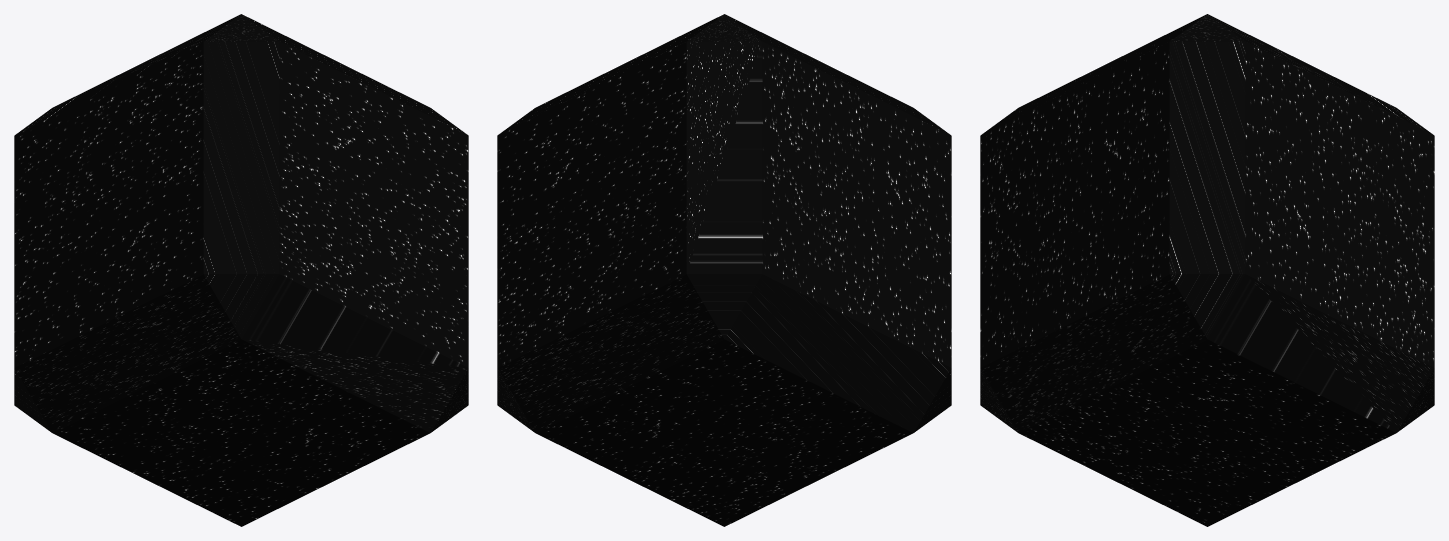
The model's file is supplier_lower_interior.obj.
The picture shows the model from 3 angles, left to right: view 1: azimuth 30°, elevation 25°; view 2: azimuth 150°, elevation 25°; view 3: azimuth 270°, elevation 25°; orthographic projection.
Visible parts, largest first — view 1: LOWER_INTERIOR_Cube.001; view 2: LOWER_INTERIOR_Cube.001; view 3: LOWER_INTERIOR_Cube.001.
Part boxes in pixels (x1,y1,x2,y2): LOWER_INTERIOR_Cube.001: (14, 14, 468, 526); LOWER_INTERIOR_Cube.001: (497, 14, 951, 526); LOWER_INTERIOR_Cube.001: (980, 14, 1434, 526).
Size of the model in its own units: 1.22 by 1.23 by 1.06.
